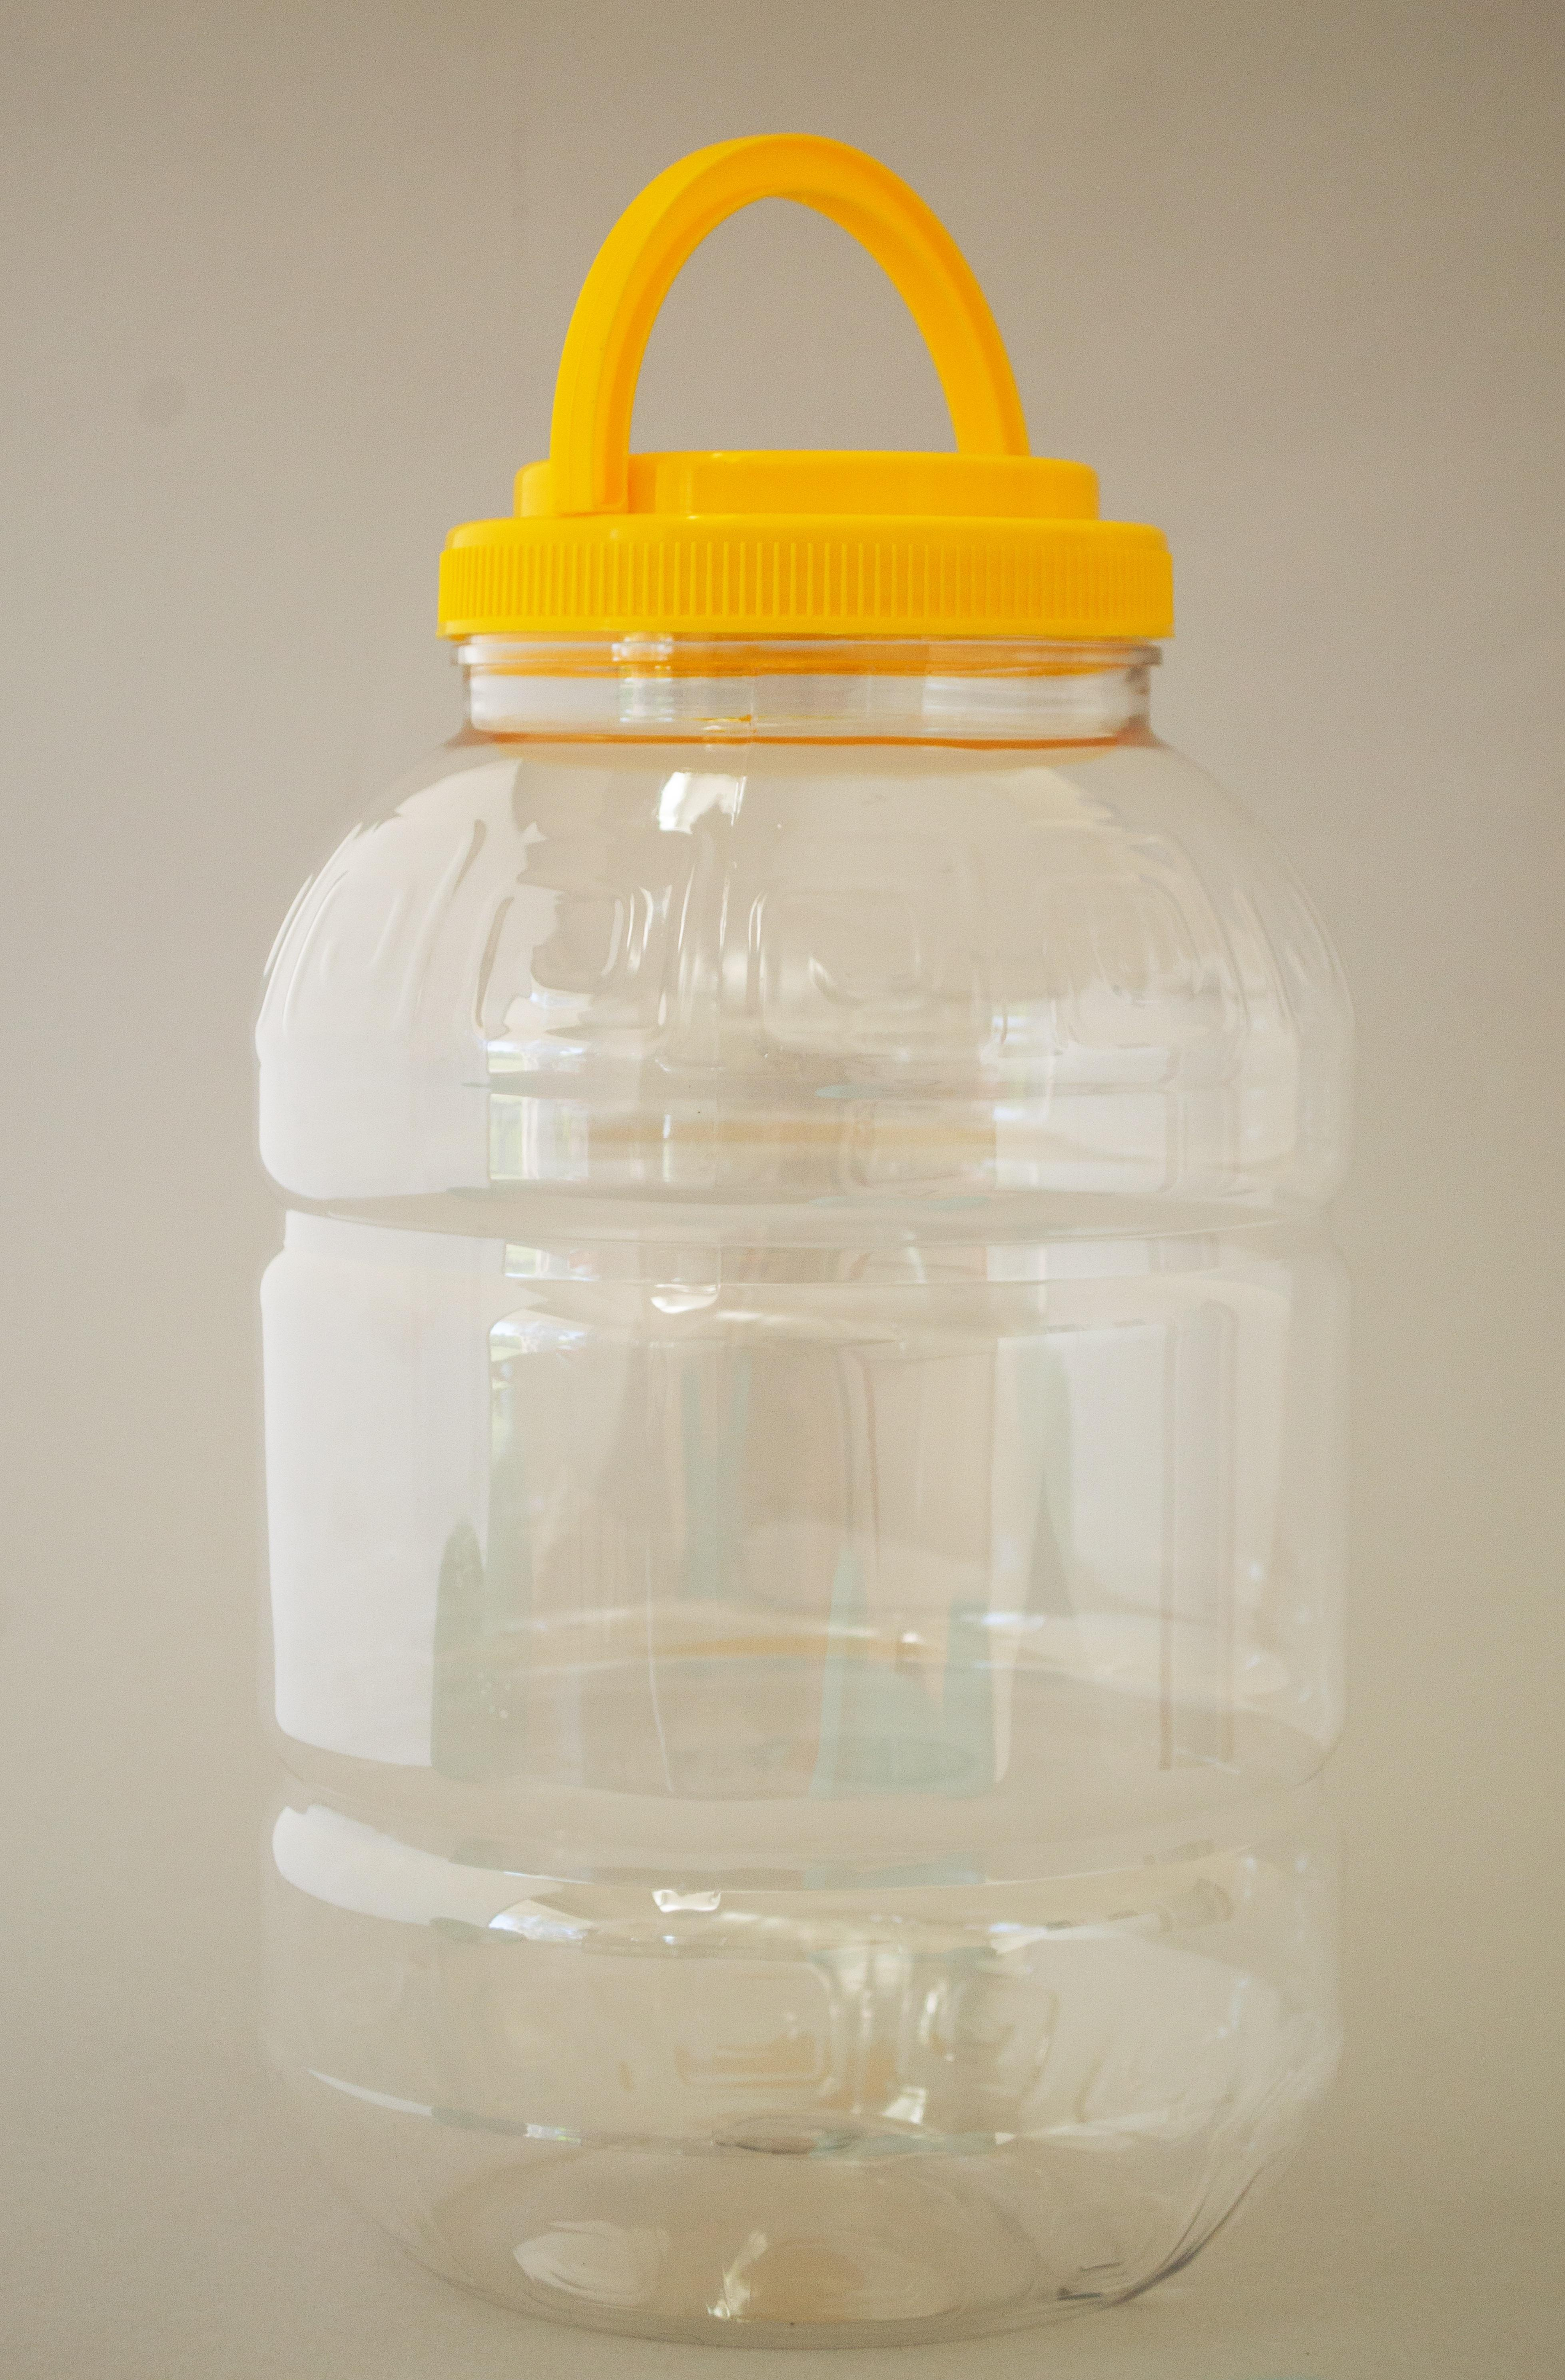bottle: (173, 59, 1453, 2329)
